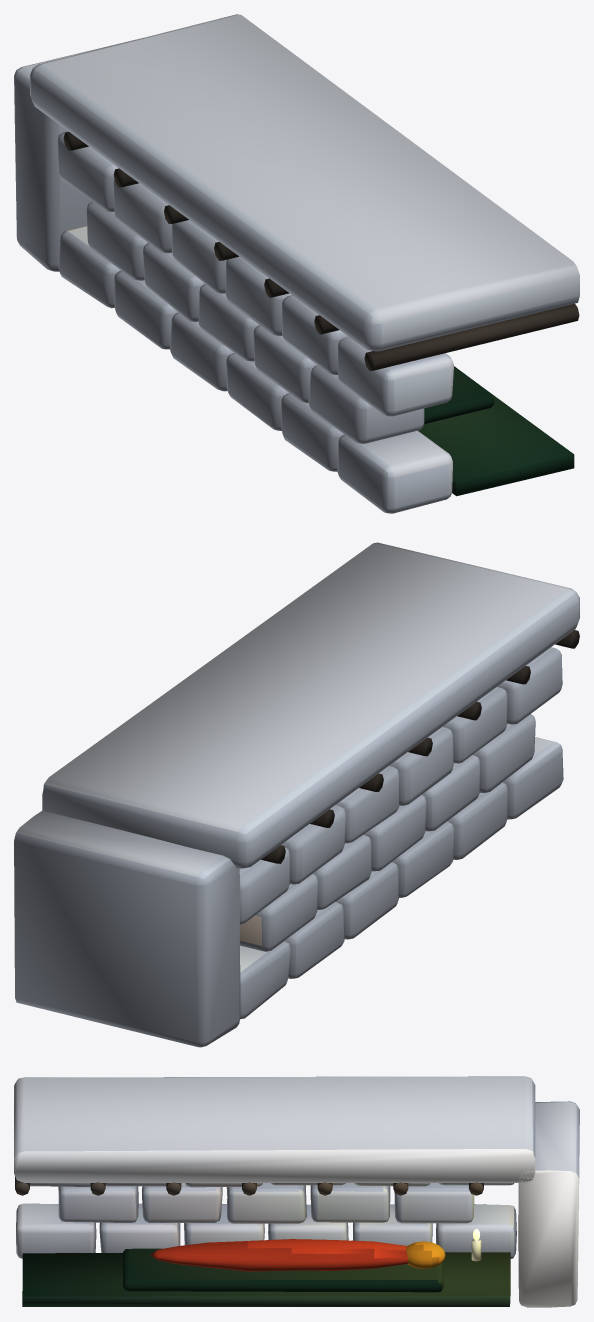
File: SnowTrench_section.glb
The picture shows the model from 3 angles, top to bottom: view 1: azimuth 30°, elevation 25°; view 2: azimuth 150°, elevation 25°; view 3: azimuth 270°, elevation 25°; orthographic projection. The views are drawn at different scales.
Parts seen in each view (by area): view 1: sec_slabs, sec_walls, sec_endwall, sec_boughs, sec_poles, sec_bed; view 2: sec_slabs, sec_walls, sec_endwall, sec_poles; view 3: sec_slabs, sec_walls, sec_boughs, sec_endwall, sec_bed, sec_bag, sec_poles, sec_pillow.
Boxes of the visible parts, x1,y1,x2,y2 form: sec_slabs: (30, 14, 579, 351); sec_walls: (57, 131, 453, 513); sec_endwall: (14, 39, 135, 271); sec_boughs: (418, 392, 574, 496); sec_poles: (63, 131, 579, 370); sec_bed: (424, 366, 494, 424); sec_slabs: (42, 542, 579, 868); sec_walls: (239, 647, 563, 1019); sec_endwall: (14, 810, 240, 1047); sec_poles: (261, 630, 579, 863); sec_slabs: (14, 1076, 535, 1182); sec_walls: (16, 1183, 516, 1258); sec_boughs: (22, 1252, 510, 1306); sec_endwall: (518, 1101, 579, 1307); sec_bed: (122, 1248, 443, 1292); sec_bag: (150, 1239, 407, 1271); sec_poles: (15, 1176, 483, 1195); sec_pillow: (406, 1241, 445, 1268).
Size of the model in its own units: 1.09 by 1.05 by 3.37.
